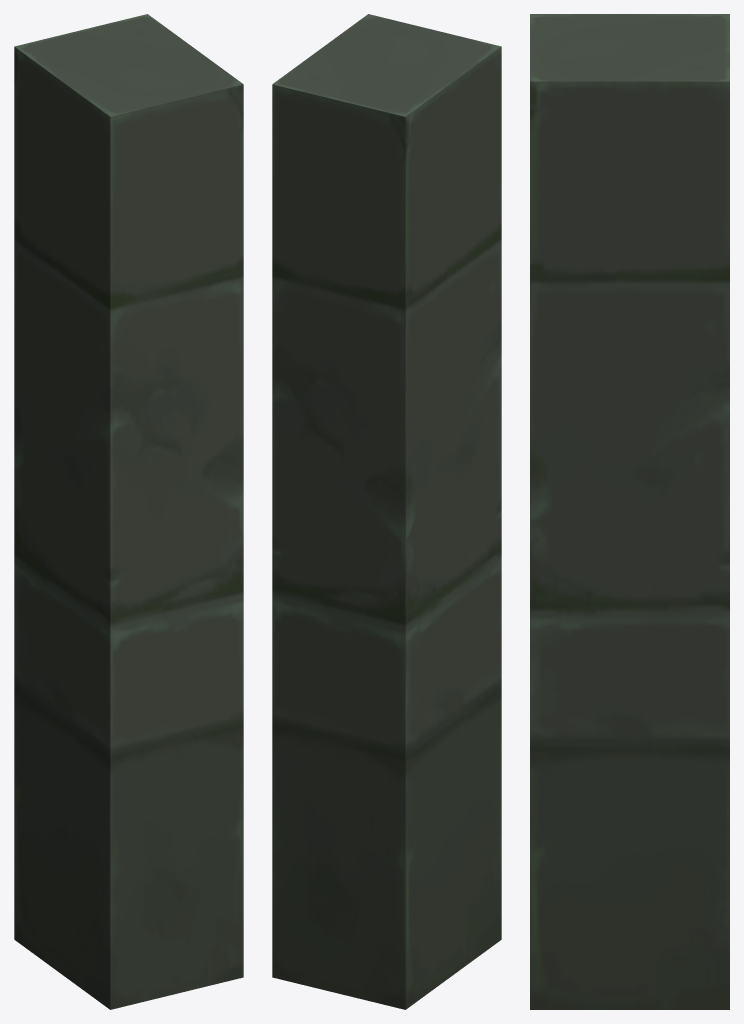
The model's file is yw_shanlin_stelae_001.FBX.
3 renders of one model, left to right at view 1: azimuth 30°, elevation 25°; view 2: azimuth 150°, elevation 25°; view 3: azimuth 270°, elevation 25°, orthographic. The views are drawn at different scales.
Parts seen in each view (by area): view 1: yw_shanlin_stelae_001; view 2: yw_shanlin_stelae_001; view 3: yw_shanlin_stelae_001.
Boxes of the visible parts, x1,y1,x2,y2 form: yw_shanlin_stelae_001: (14, 14, 243, 1009); yw_shanlin_stelae_001: (272, 14, 501, 1009); yw_shanlin_stelae_001: (530, 14, 729, 1009).
Bounding box in the file's own units: 141 × 176 × 900.
